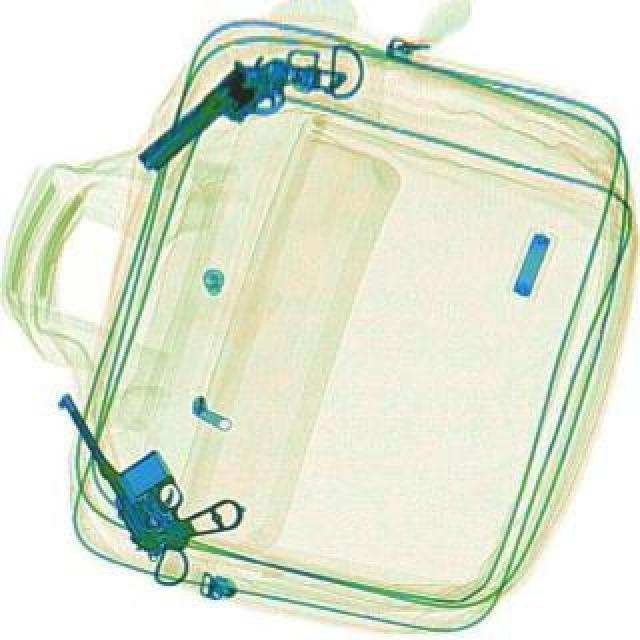gun: (128, 14, 348, 214), (52, 350, 248, 566)
